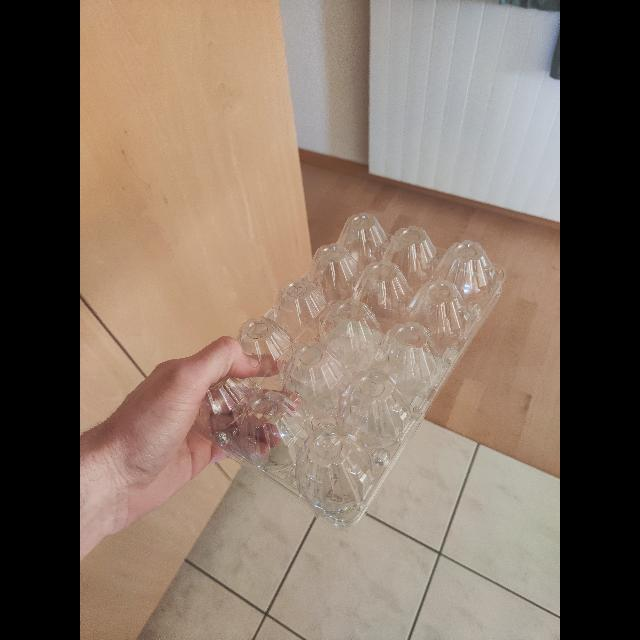Plastic: (194, 212, 506, 528)
